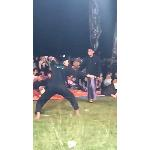Celurit: (78, 69, 102, 84)
